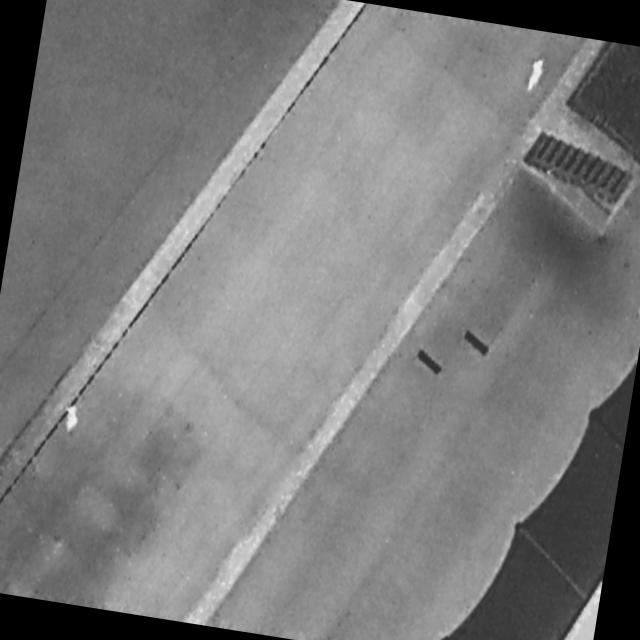person: (524, 55, 548, 97), (63, 404, 82, 435)
